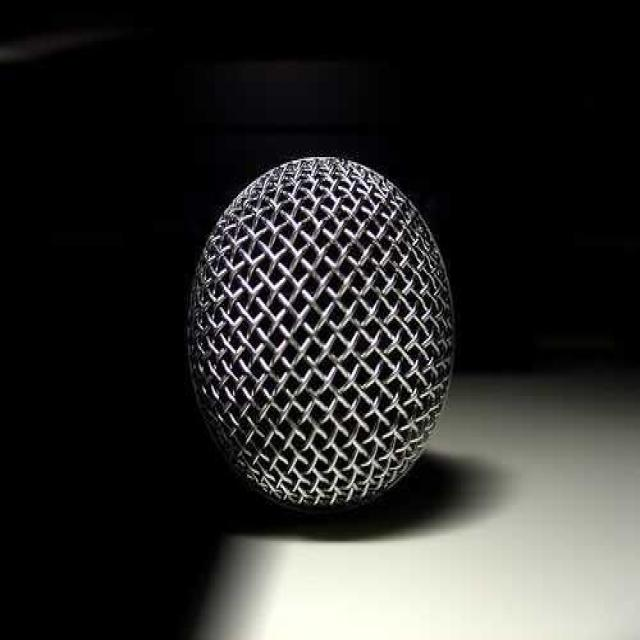microphone: (185, 156, 457, 512)
